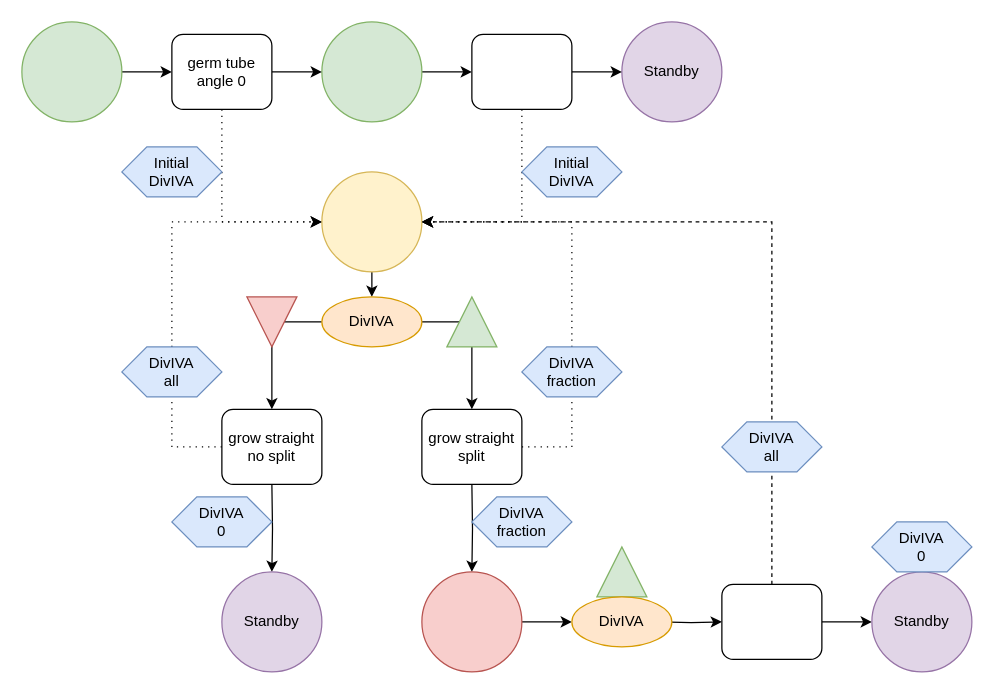
Image size: 994x694. Some labels were removed from this diagram. Here are the shapes that lost their labels. From the top down, the centre of each, then its label:
[71,71]: Spore 2
[371,71]: Spore 1
[521,71]: germ tube angle 180
[371,221]: Tip
[471,621]: Lateral
[771,621]: grow lateral
